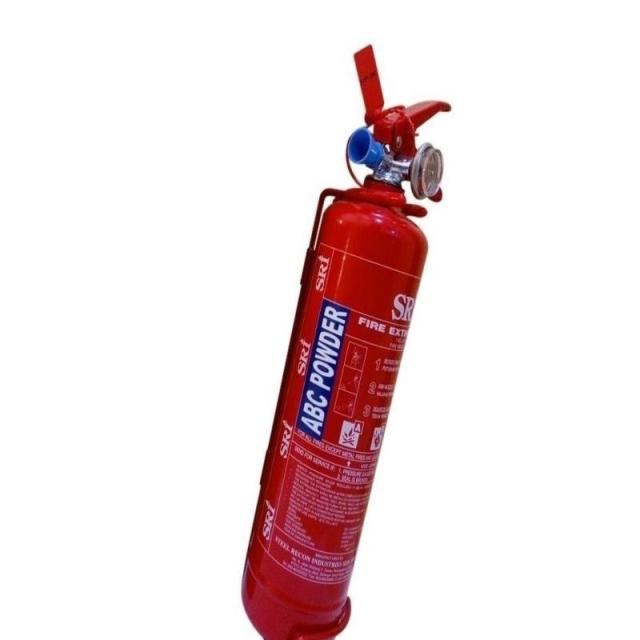fire_extinguisher: (233, 40, 454, 639)
